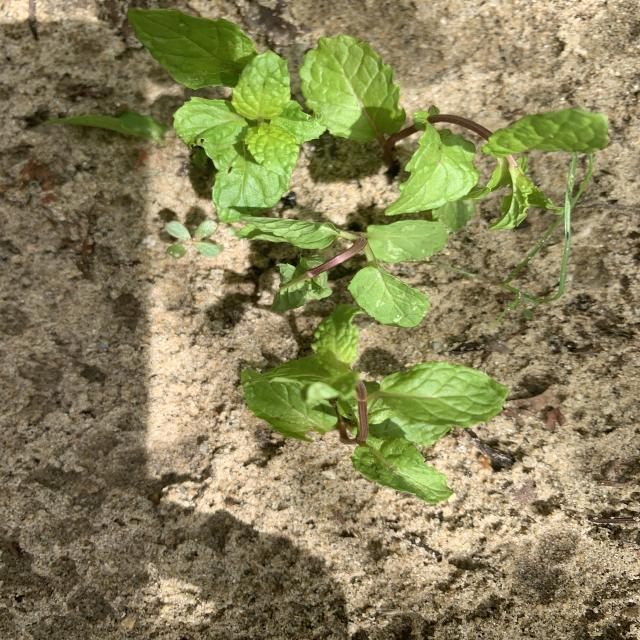crop: (301, 35, 607, 230), (241, 305, 507, 503), (128, 9, 325, 221), (236, 215, 447, 327)
weed: (497, 152, 593, 321), (165, 220, 222, 259)
